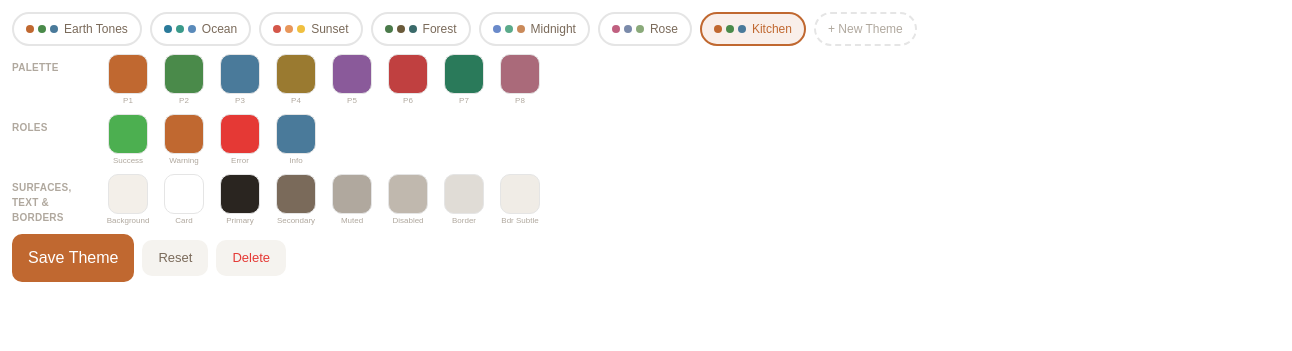
Test: ThemeSettings › says the save failed when storing an edited custom theme is rejected
Click the button "Save Theme". click: (73, 258)
box: [12,234,134,282]
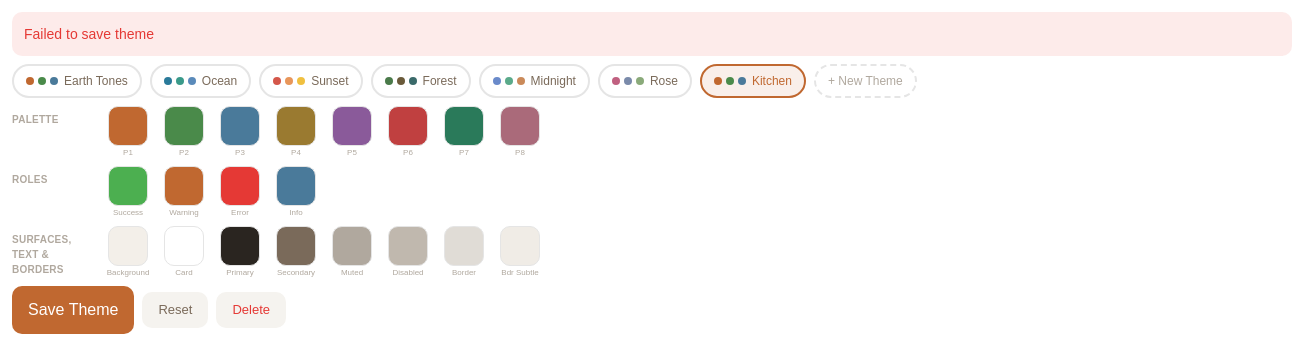
Check: the text "Failed to save theme" is shown, box [12,12,1291,56]
